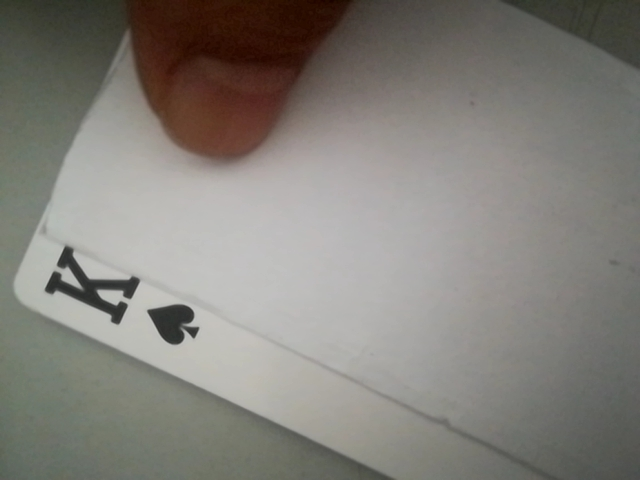ht k: (19, 240, 219, 357)
